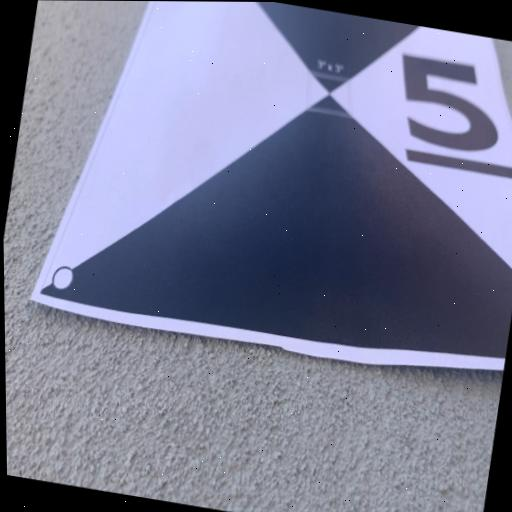target5: (29, 1, 512, 367)
